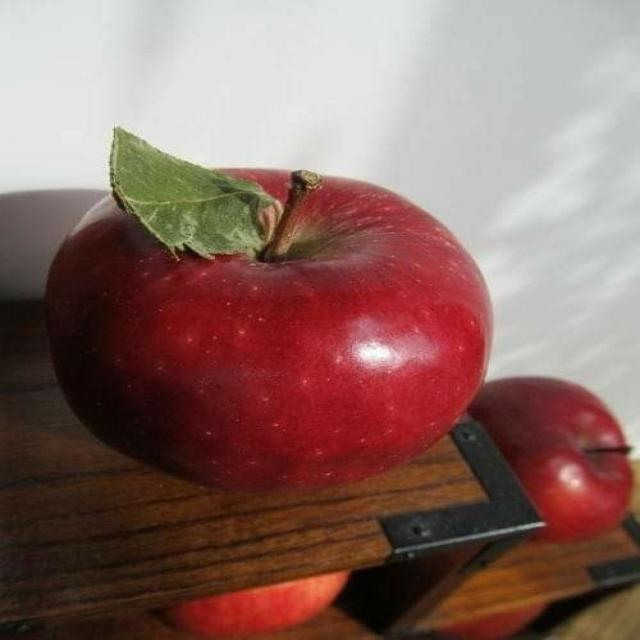apple: (47, 178, 491, 490), (469, 378, 632, 541), (164, 571, 349, 637), (440, 604, 546, 639)
